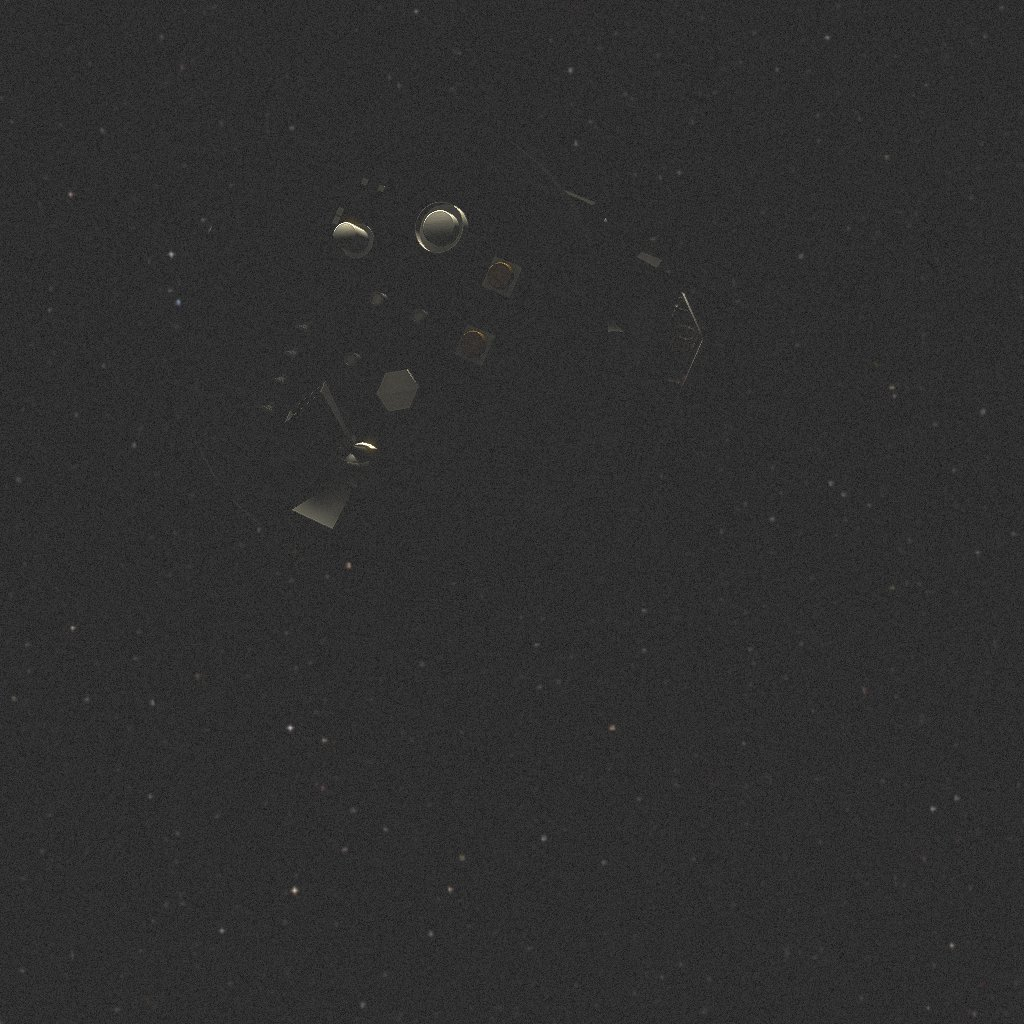proba_3_ocs: (178, 110, 706, 599)
